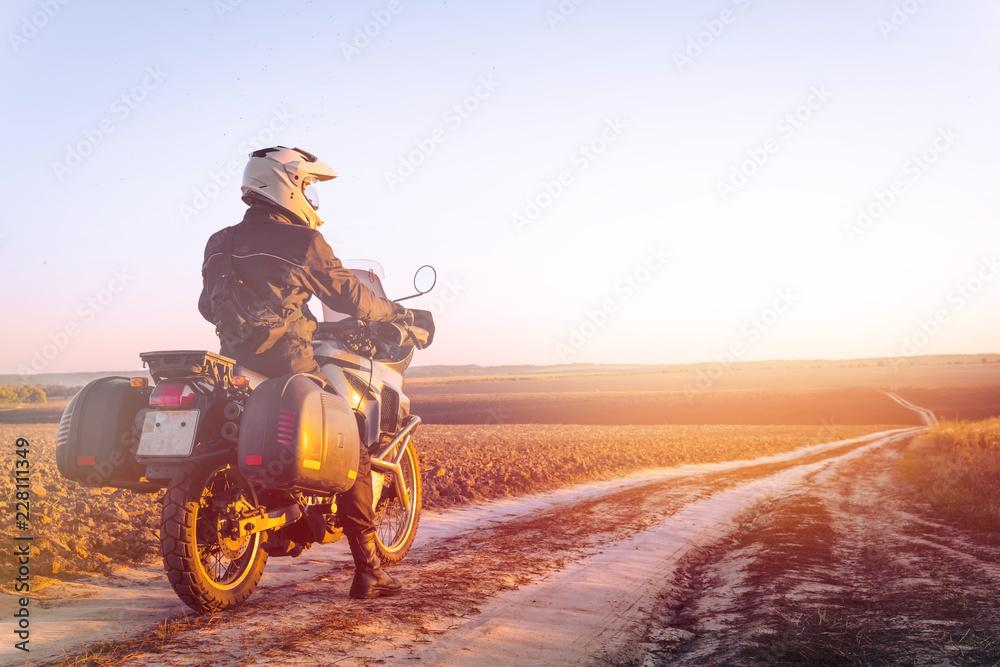helmet: (240, 144, 341, 233)
